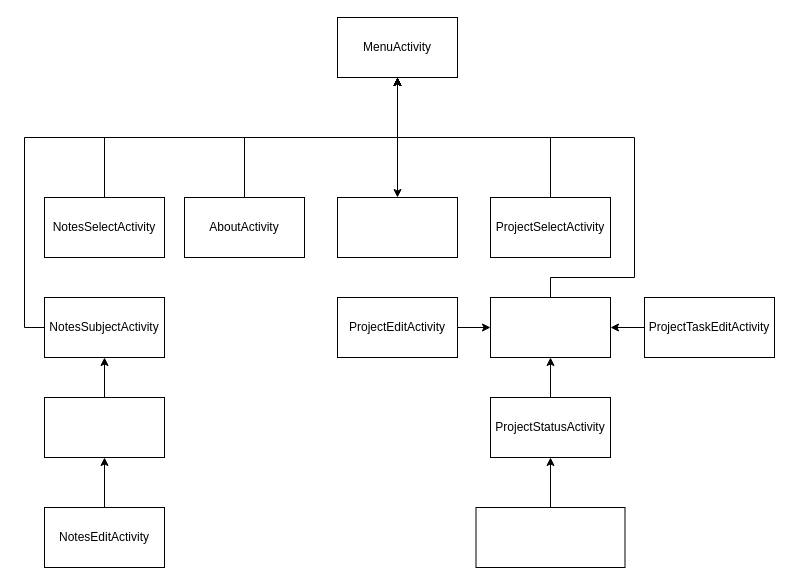
The diagram is 792 pixels wide and 585 high, and some of its shapes have lost their labels. The shapes that lost their labels are listed below. From the top down, each one's box as (x1, y1, x2, y2) in pixels, then its label:
(336, 196, 458, 258): MainActivity
(490, 296, 610, 358): ProjectInfoActivity
(44, 396, 164, 458): NotesViewActivity
(475, 506, 625, 568): ProjectStatusEditActivity
